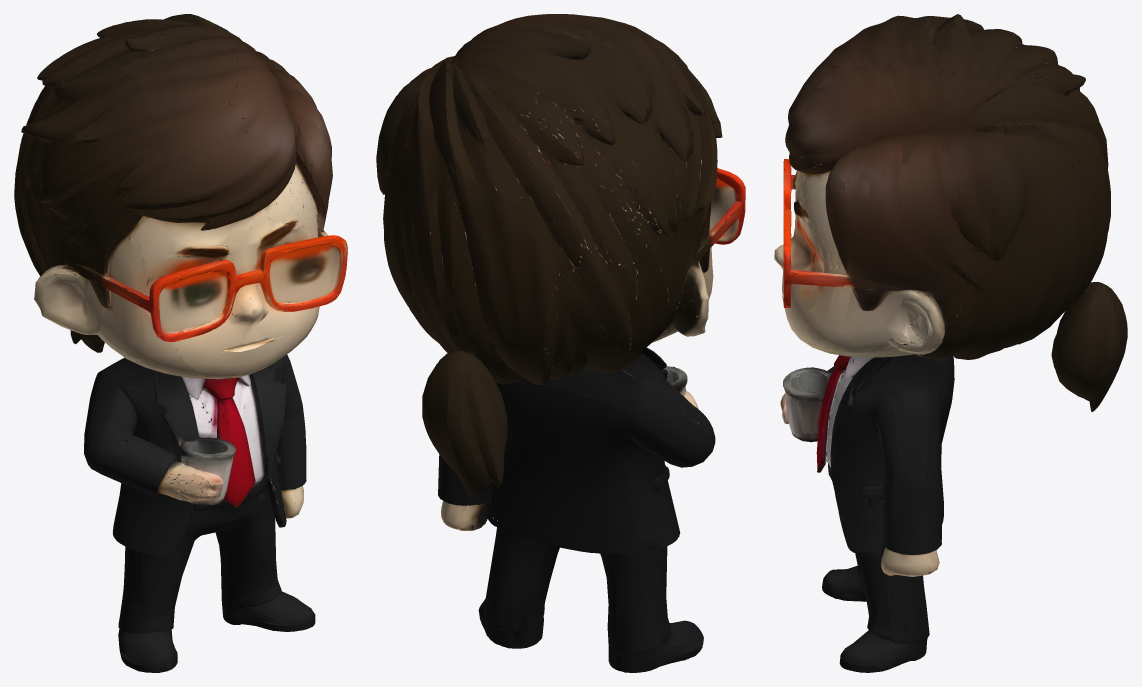
The model's file is hunyuan-merchant.glb.
3 views of the same model, side by side, from view 1: azimuth 30°, elevation 25°; view 2: azimuth 150°, elevation 25°; view 3: azimuth 270°, elevation 25° (orthographic). The views are drawn at different scales.
Parts seen in each view (by area): view 1: node_0; view 2: node_0; view 3: node_0.
Boxes of the visible parts, x1=… form: node_0: x1=14, y1=14, x2=347, y2=672; node_0: x1=376, y1=14, x2=745, y2=672; node_0: x1=774, y1=14, x2=1127, y2=672.
Bounding box in the file's own units: 0.5553 × 1.1 × 0.5926.
Materials: 1 (1 with a texture image).
